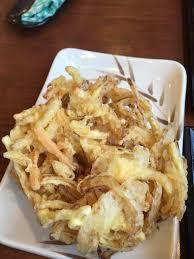kakiage: (26, 81, 182, 243)
